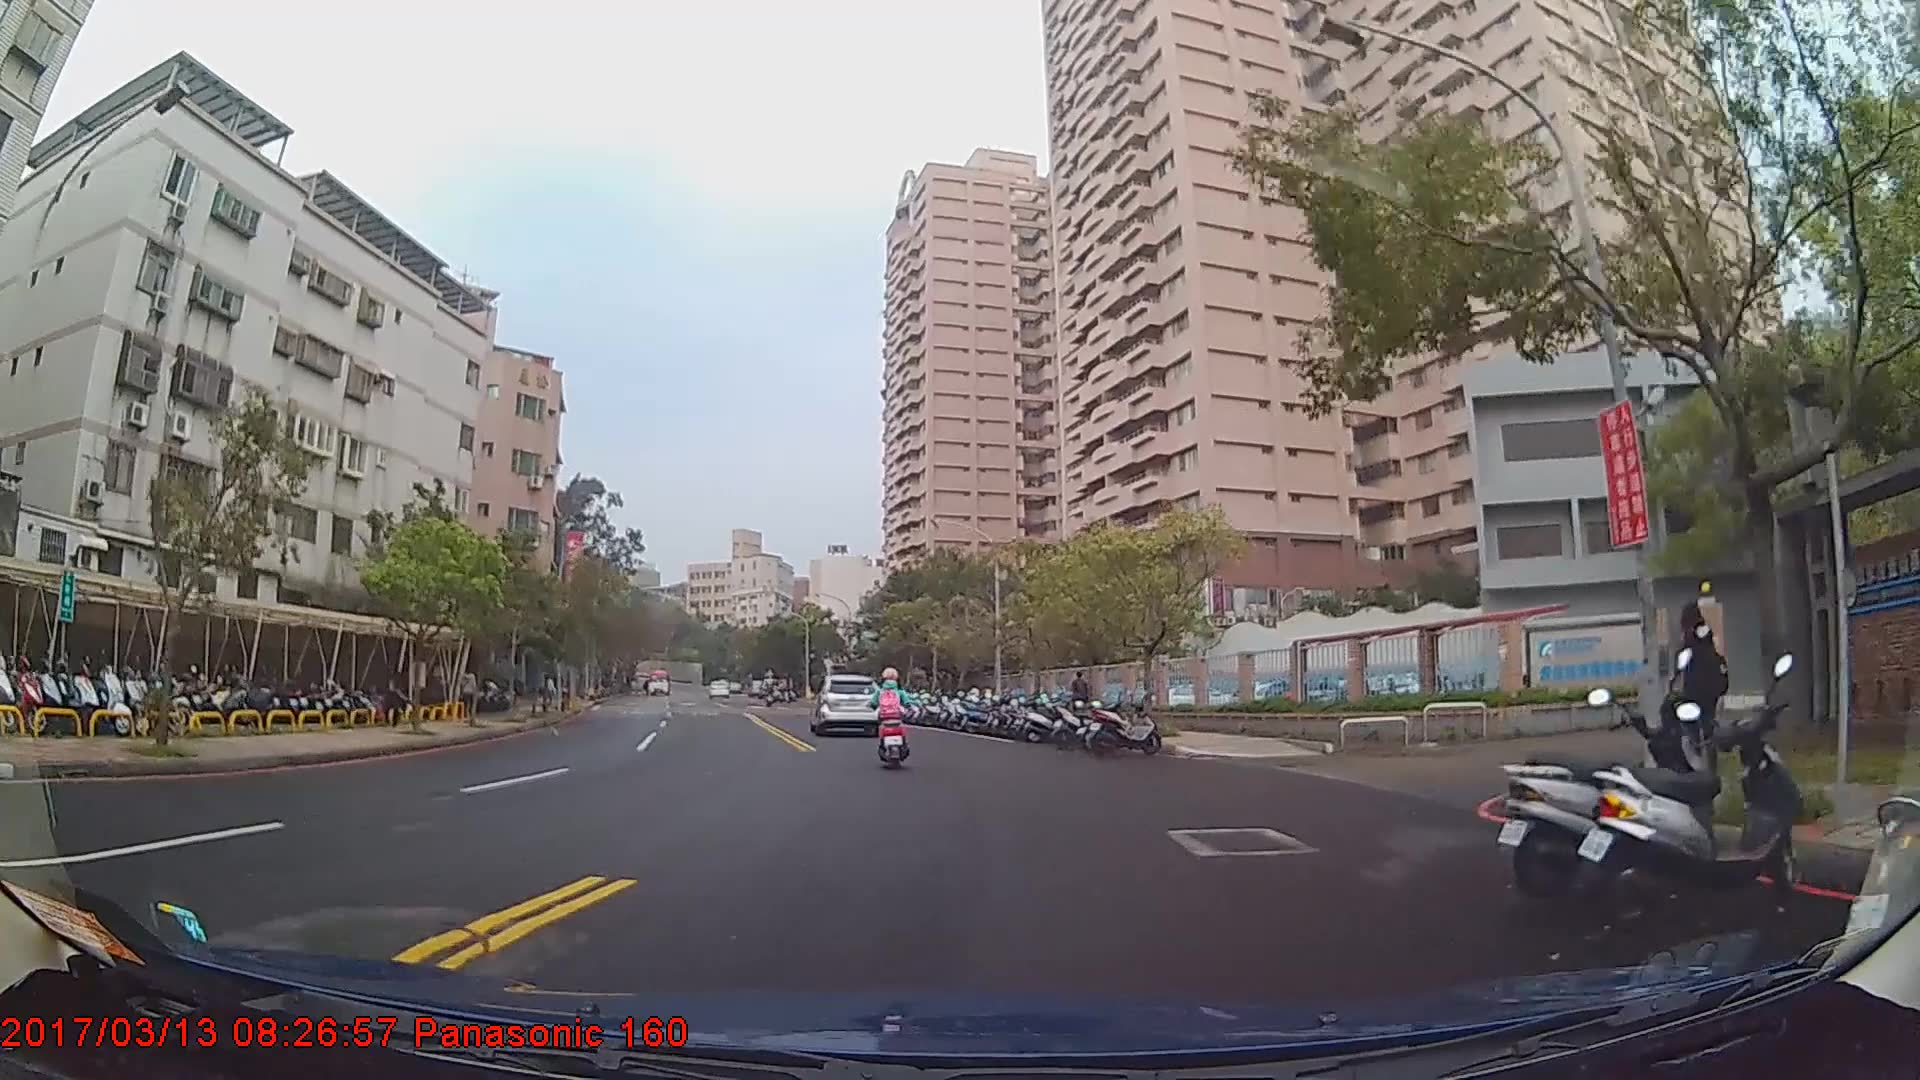pedestrian: (1663, 600, 1734, 798), (378, 666, 405, 734), (1070, 671, 1091, 729)
rider: (871, 669, 914, 767)
vehicle: (807, 673, 884, 738), (642, 667, 670, 696)
